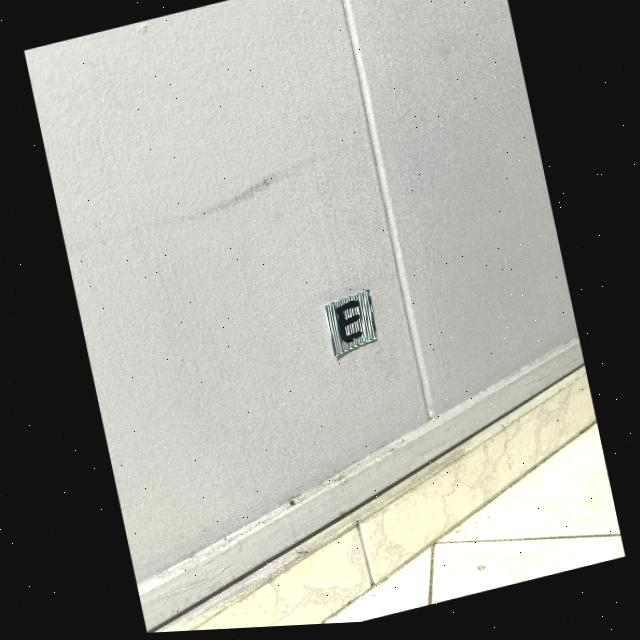E: (337, 305, 363, 346)
